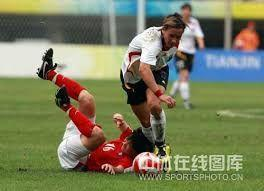Fall-Detected: (35, 39, 165, 173)
